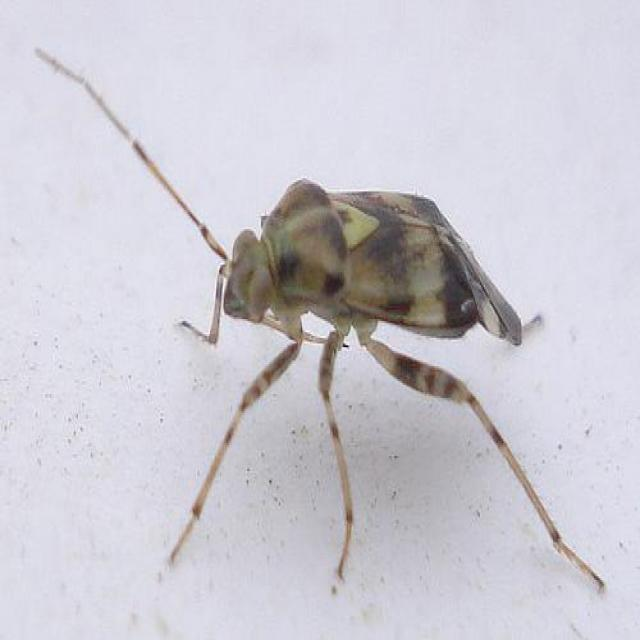Miridae-Adult-: (32, 33, 613, 610)
